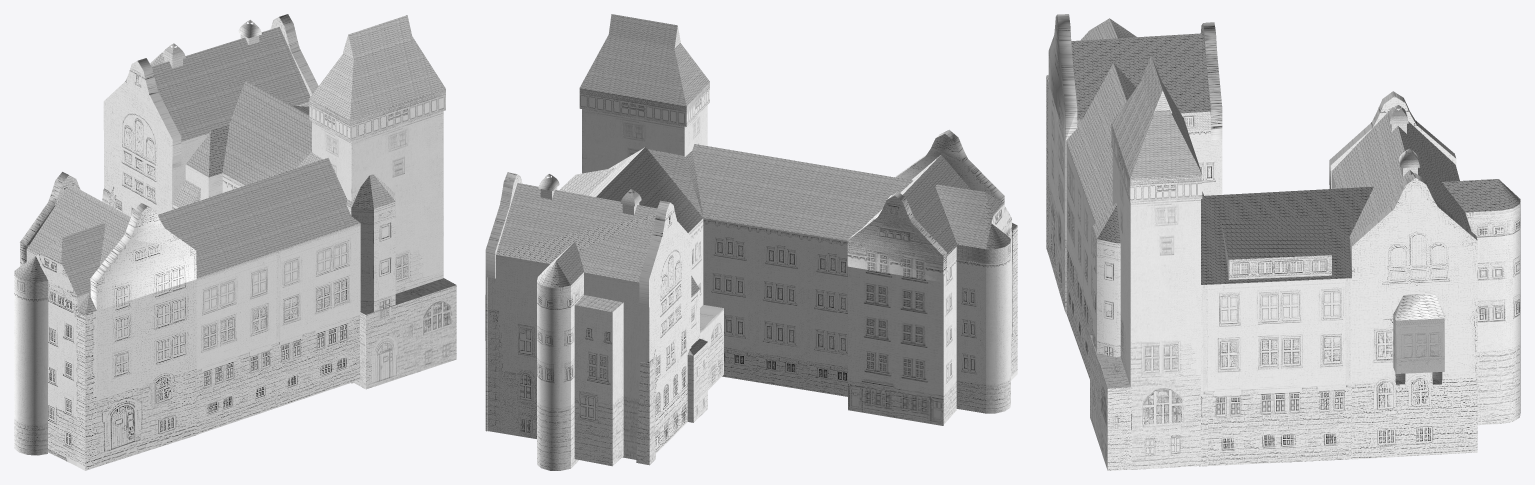
Rendered from 1Tillich-Bau.gltf.
3 views of the same model, side by side, from view 1: azimuth 30°, elevation 25°; view 2: azimuth 150°, elevation 25°; view 3: azimuth 270°, elevation 25° (orthographic). The views are drawn at different scales.
Parts seen in each view (by area): view 1: Dach.1; view 2: Dach.1; view 3: Dach.1.
Boxes of the visible parts, left/top/right/bottom form: Dach.1: left=14, top=14, right=456, bottom=470; Dach.1: left=485, top=14, right=1017, bottom=470; Dach.1: left=1046, top=14, right=1520, bottom=470.
Bounding box in the file's own units: 44.52 × 33.63 × 38.6.
26 materials, 26 textured.
